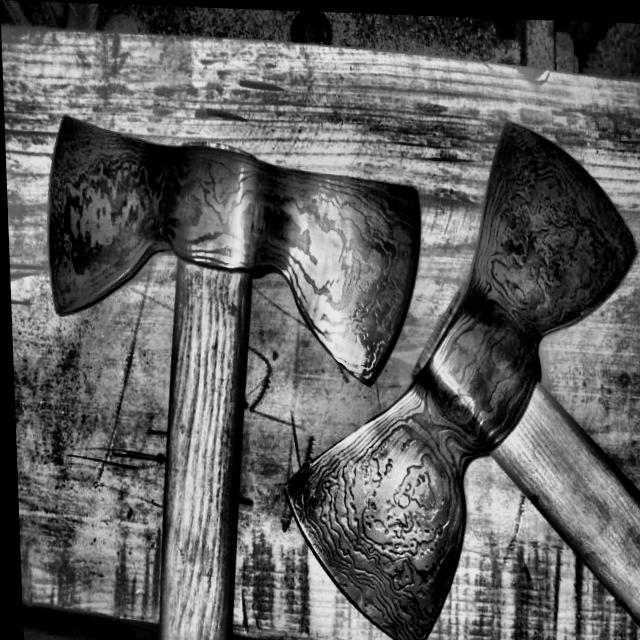kapak: (38, 104, 426, 640)
